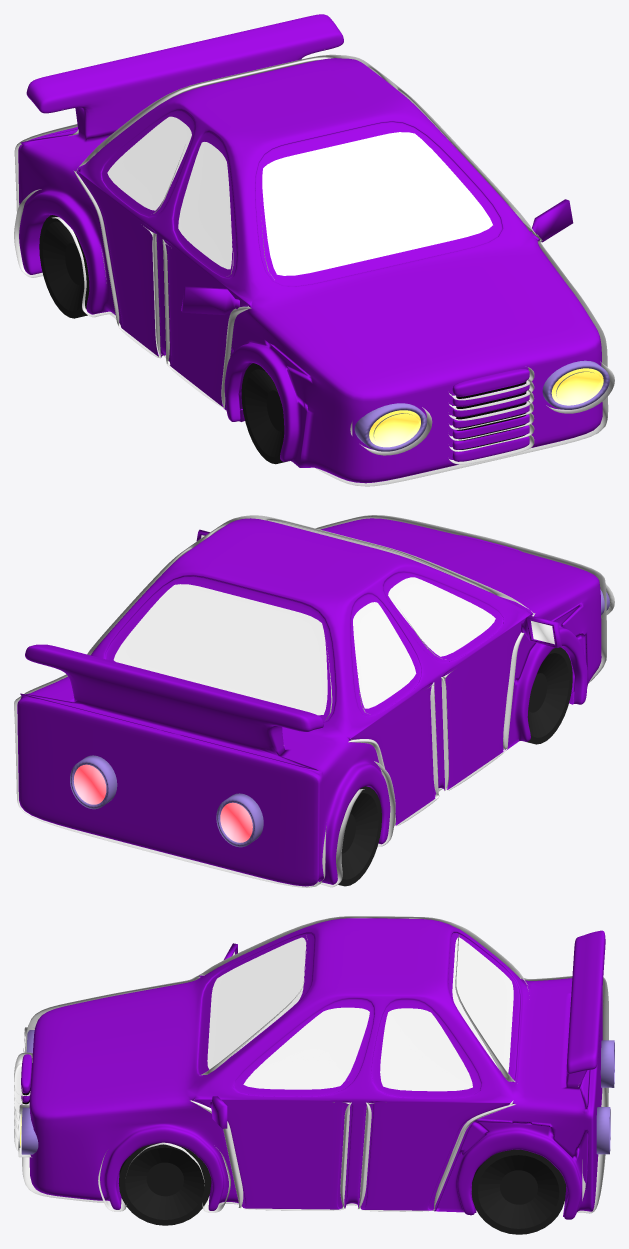
The model's file is car.glb.
3 views of the same model, one above another, from view 1: azimuth 30°, elevation 25°; view 2: azimuth 150°, elevation 25°; view 3: azimuth 270°, elevation 25° (orthographic). The views are drawn at different scales.
Parts seen in each view (by area): view 1: car; view 2: car; view 3: car.
Part boxes in pixels (box(x1,y1,x2,y2)): car: box(14, 14, 614, 486); car: box(14, 515, 614, 887); car: box(14, 916, 614, 1234).
Size of the model in its own units: 0.1718 by 0.1024 by 0.262.
